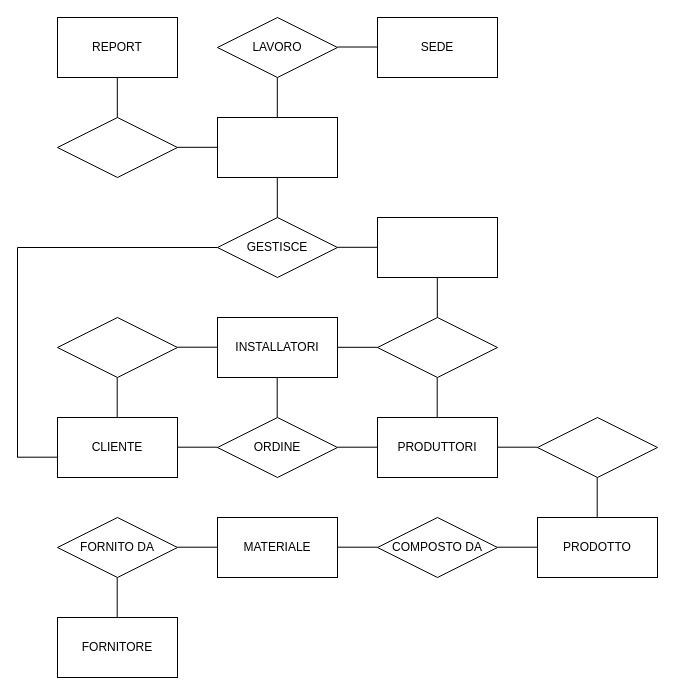
Image size: 675x695. Some labels were removed from this diagram. The centre of each missing label's shape, as x and y in pixels:
"AMMINISTRATORE" goes at point 277,147.
"FORMATO DA" goes at point 437,347.
"INSTALLAZIONE" goes at point 117,347.
"PRODUCE" goes at point 597,447.
"SCRIVE" goes at point 117,147.
"TEAM" goes at point 437,247.
